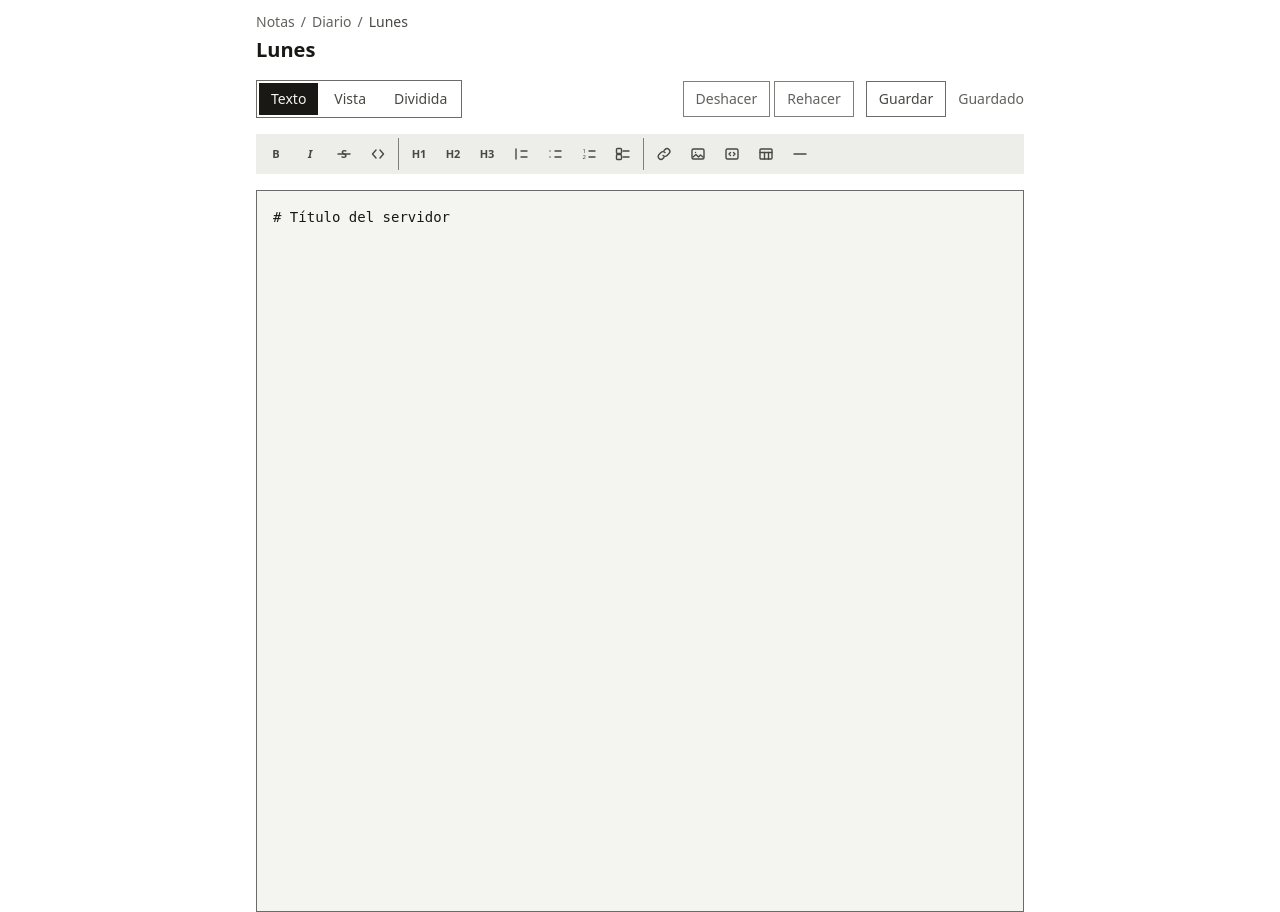
Test: DocumentEditorPage — vista dividida (spec 005: AC-14 a AC-18, AC-25) › en modo dividido la vista previa pinta el BORRADOR, sin esperar al guardado (AC-16)
The width and height of the screenshot is (1280, 912).
Click the tab "Dividida".
click(421, 99)  # box [382,83,459,115]
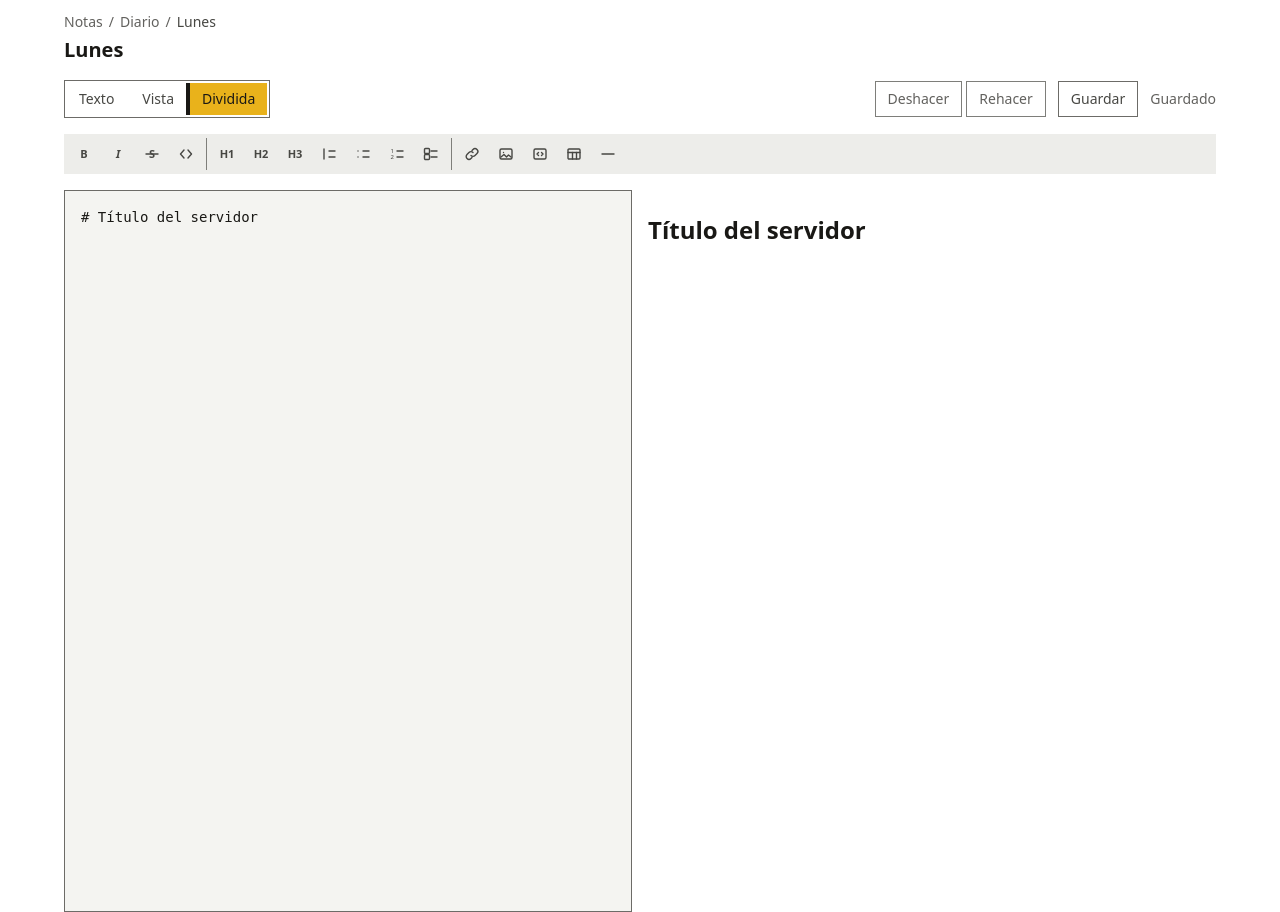
Replace the text in the text box named "Texto de «Lunes»" with "# Lo que estoy escribiendo" at (348, 551), box [64,190,632,911]
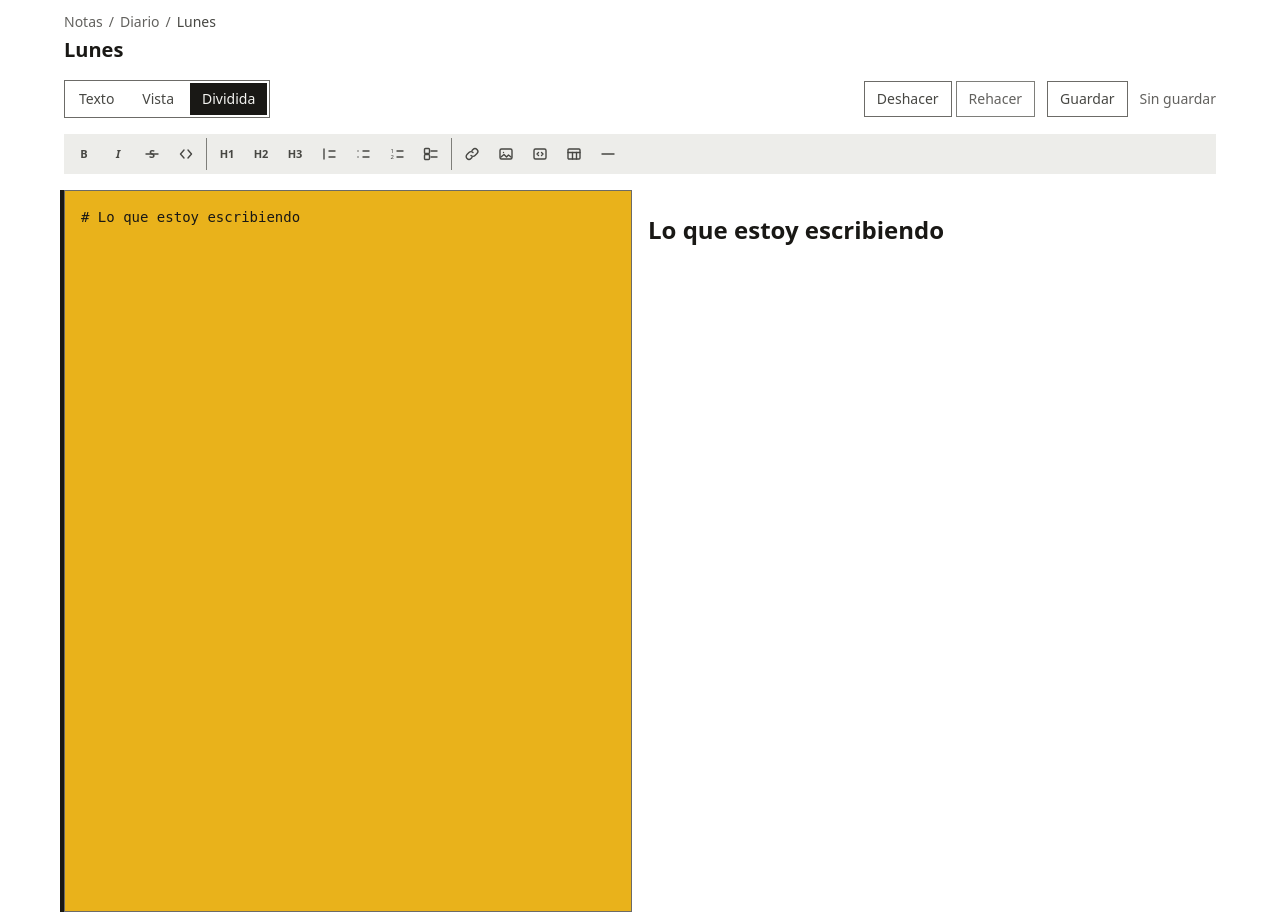
expect the heading "Título del servidor" is not shown: met
expect the heading "Lo que estoy escribiendo" is shown: met, box [648,213,944,246]
